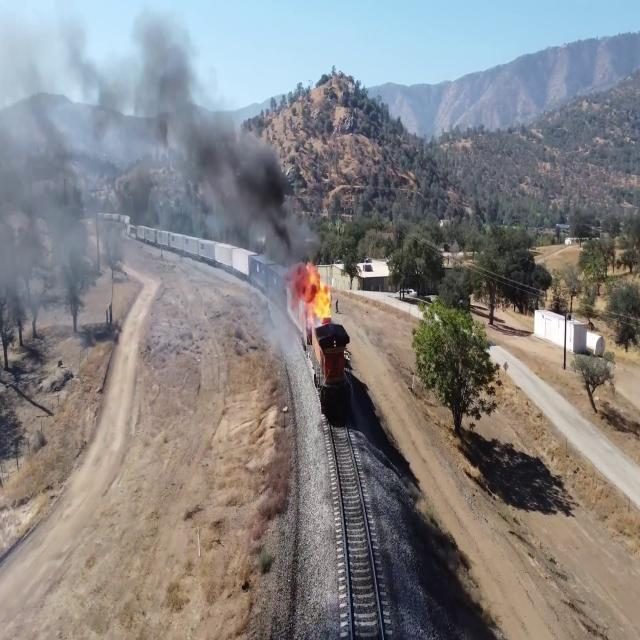Fire: (298, 269, 335, 322)
Smoke: (123, 6, 198, 136), (182, 92, 244, 226), (245, 156, 315, 265)
